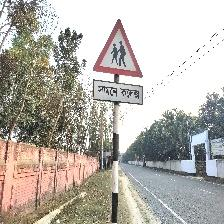College-in-front: (78, 1, 169, 123)
